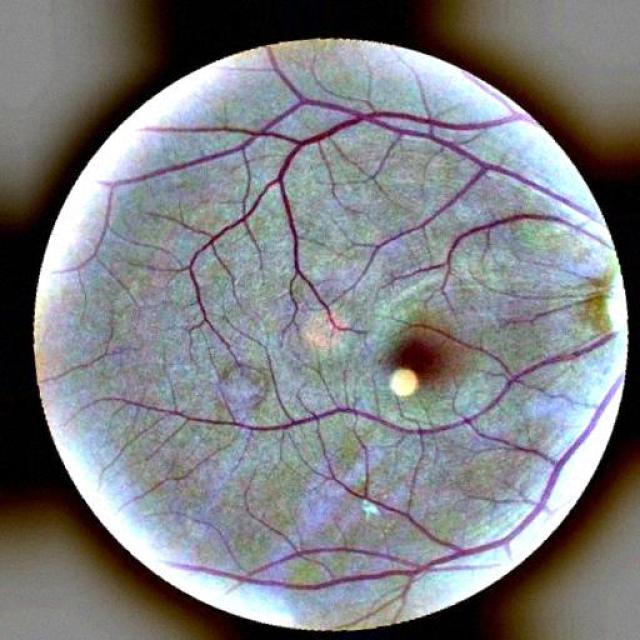Macula: (368, 322, 466, 399)
Nerves: (157, 107, 610, 329), (201, 389, 613, 600), (105, 331, 615, 445)
Optic Disk: (595, 243, 632, 384)
